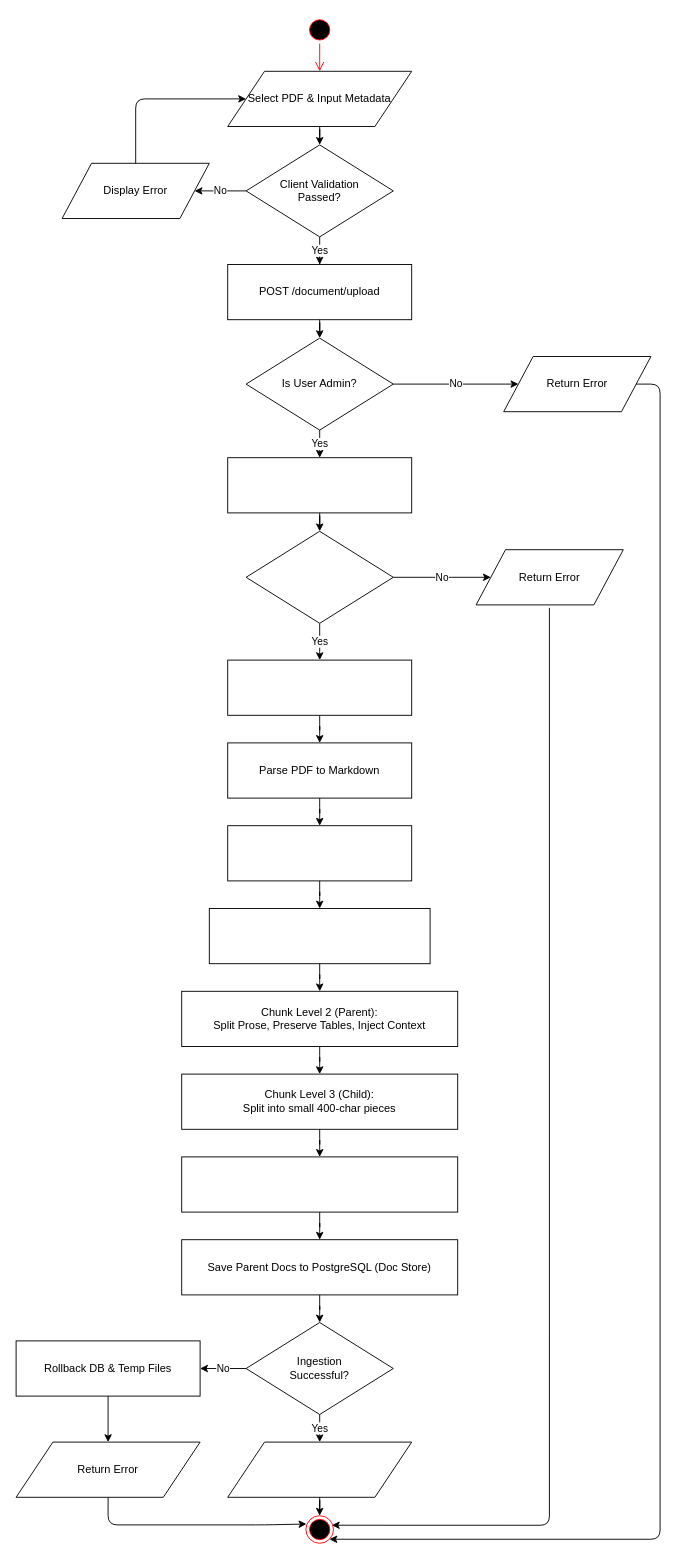
The diagram is 684 pixels wide and 1563 high, and some of its shapes have lost their labels. The shapes that lost their labels are listed below. From the top down, each one's centre as x and y in pixels, then its label:
At pixel 319 485: "Validate File & Metadata".
At pixel 319 576: "Server Validation Passed?".
At pixel 319 687: "Save Temporary PDF".
At pixel 319 853: "Extract Timestamp & Metadata".
At pixel 319 936: "Chunk Level 1: Split by Markdown Headers".
At pixel 319 1184: "Embed & Save Child Docs to Qdrant (Vector DB)".
At pixel 319 1469: "Return Success Message".
